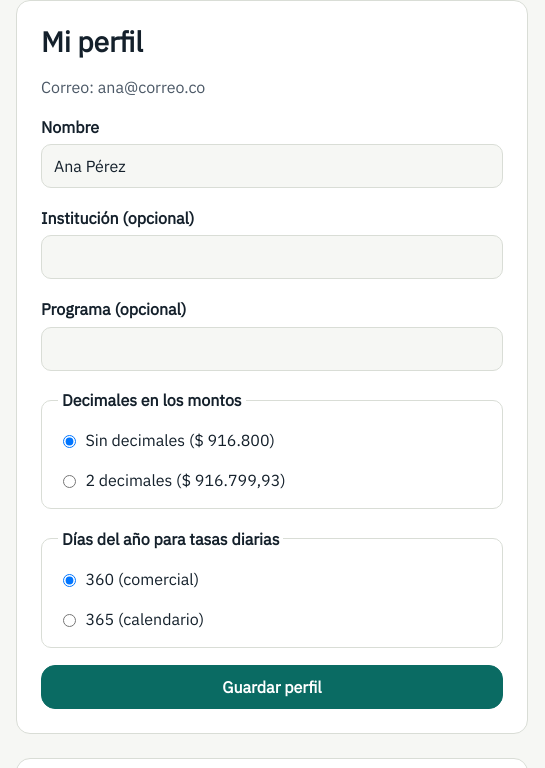
Test: HU-04: perfil › criterio HU-04: guarda nombre, institución, programa y preferencias
This screenshot has width=545, height=768.
Expected: the field labelled "Nombre" is shown, [41, 144, 503, 188]
Type "Universidad Distrital" into the field labelled "Institución (opcional)". click: x=272, y=257
box: [41, 235, 503, 279]
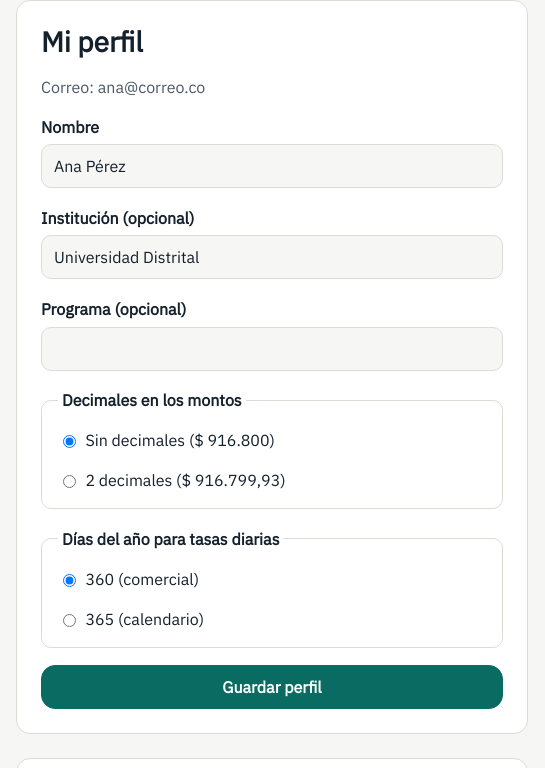
Type "Ingeniería Industrial" into the field labelled "Programa (opcional)". click: x=272, y=349
box: [41, 327, 503, 371]
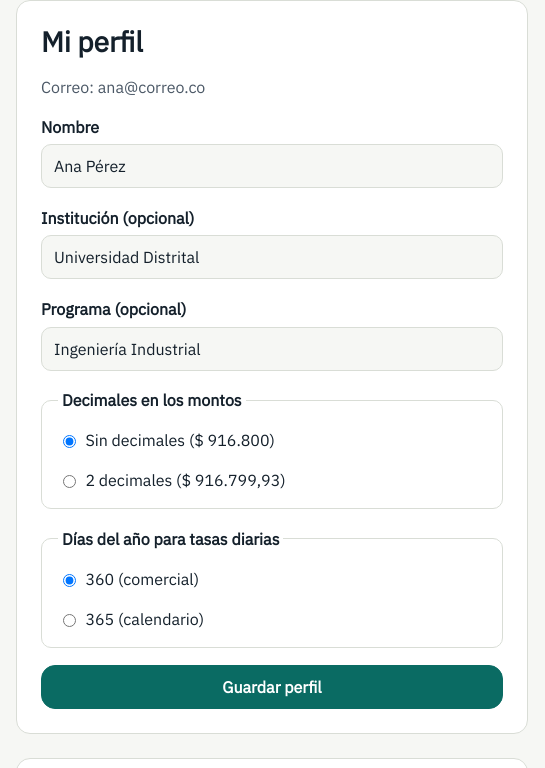
Click the radio button labelled "2 decimales ($ 916.799,93)". click: x=70, y=482
box: [63, 475, 76, 488]
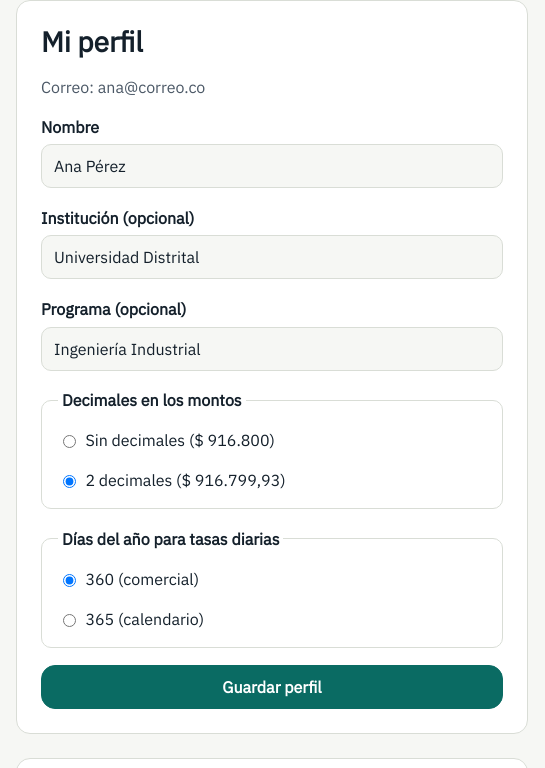
Click the radio button labelled "365 (calendario)". click: x=70, y=620
box: [63, 614, 76, 627]
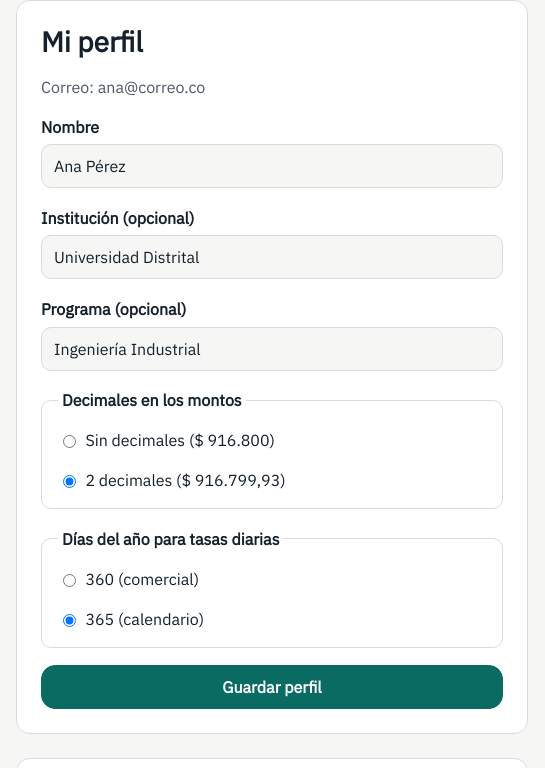
Click the button "Guardar perfil". click: x=272, y=687
box: [41, 665, 503, 709]
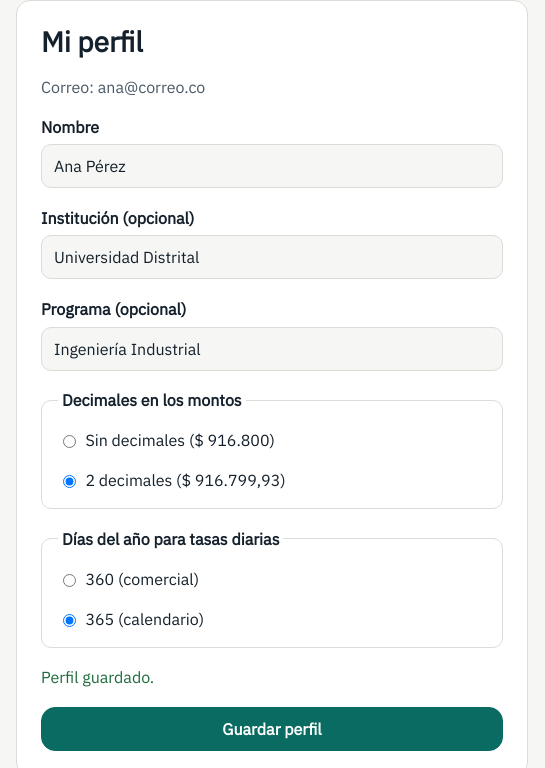
Expected: the message reads "Perfil guardado.", [41, 667, 154, 687]
